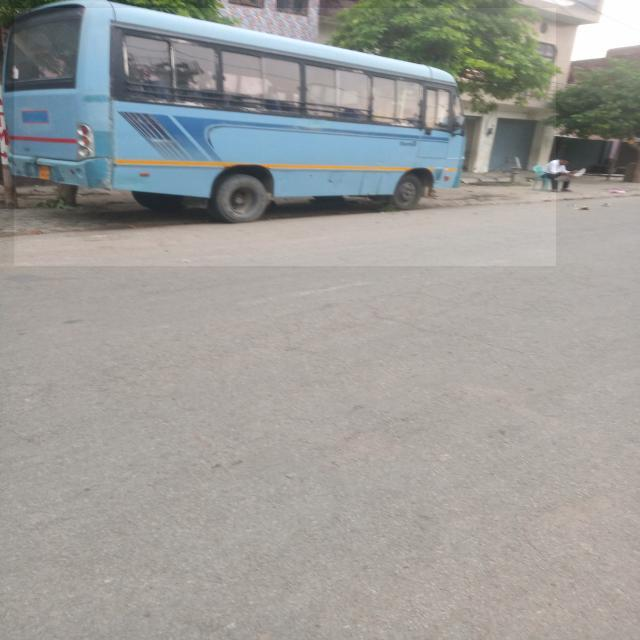Bus: (14, 8, 556, 266)
